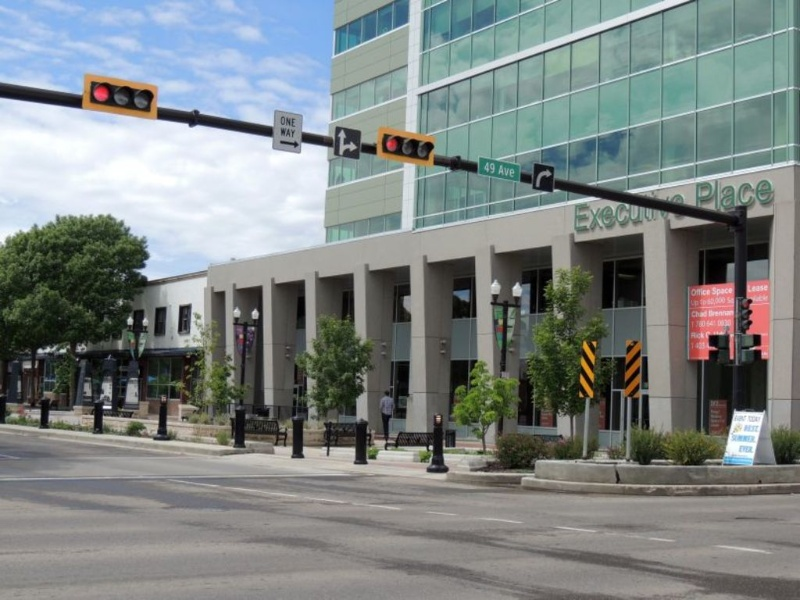red_light: (87, 79, 116, 106), (381, 130, 403, 153)
right_direction: (275, 135, 304, 149)
right_turn_ahead: (532, 161, 556, 191)
